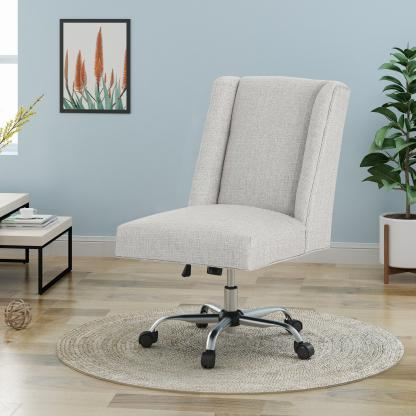chair: (107, 69, 357, 371)
table: (0, 172, 93, 299)
